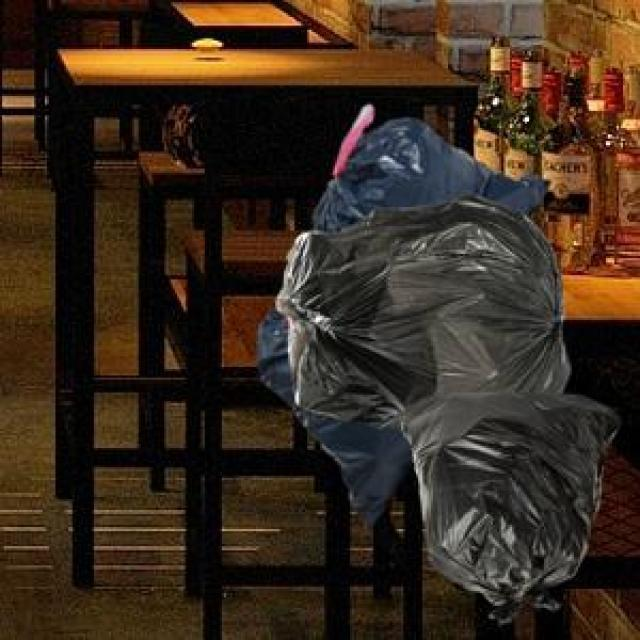waste: (259, 120, 618, 616)
